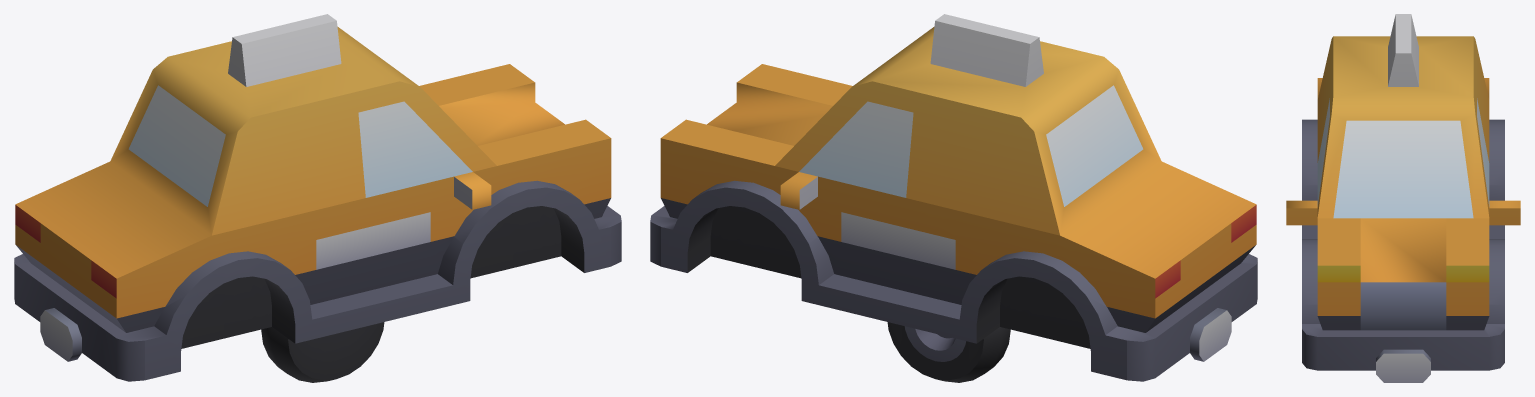
File: taxi.glb
The picture shows the model from 3 angles, left to right: view 1: azimuth 30°, elevation 25°; view 2: azimuth 150°, elevation 25°; view 3: azimuth 270°, elevation 25°; orthographic projection. The views are drawn at different scales.
Visible parts, largest first — view 1: body, wheel; view 2: body, wheel; view 3: body.
Part boxes in pixels (x1,y1,x2,y2): body: (14, 14, 621, 381); wheel: (261, 322, 384, 382); body: (650, 14, 1257, 381); wheel: (887, 322, 1010, 382); body: (1286, 14, 1520, 382).
Bounding box in the file's own units: 4.1 × 2.68 × 1.88.
